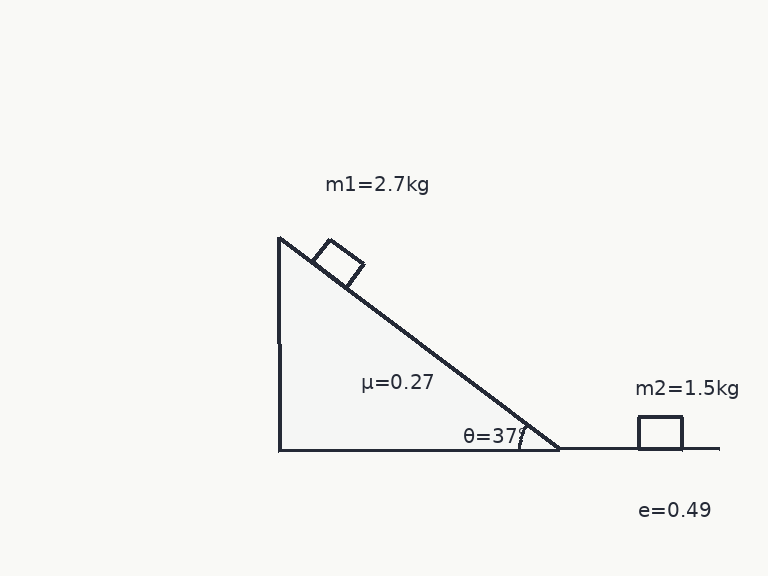block: (310, 236, 366, 290), (636, 415, 684, 451)
ramp: (277, 236, 561, 451)
